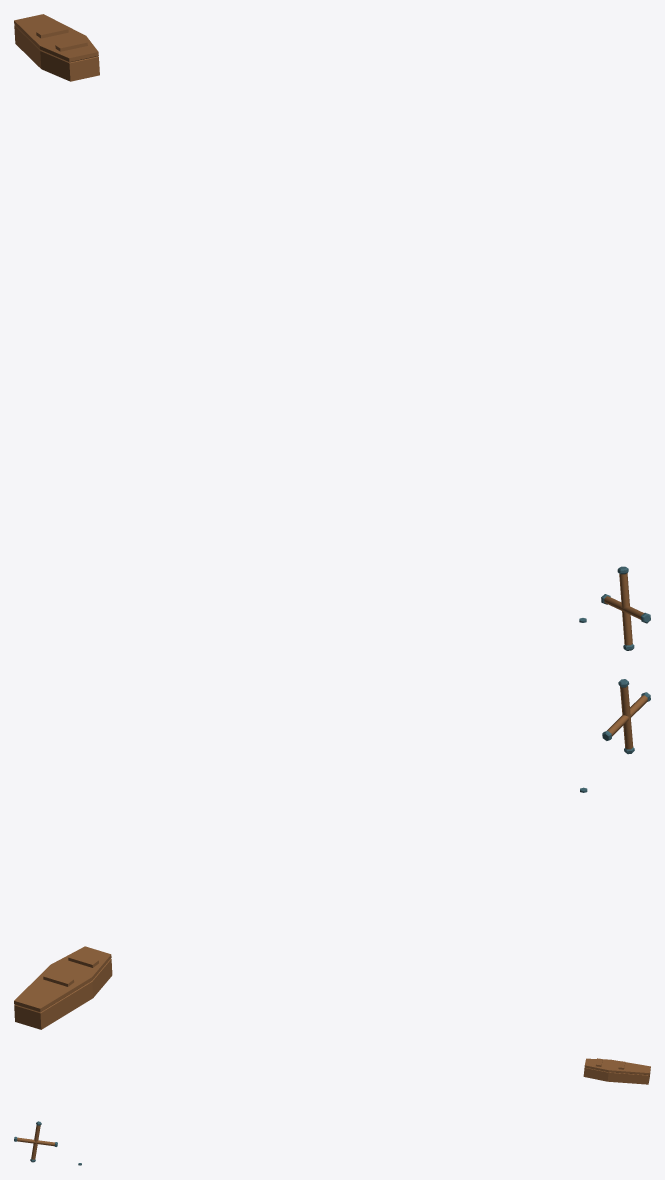
3 views of the same model, one above another, from view 1: azimuth 30°, elevation 25°; view 2: azimuth 150°, elevation 25°; view 3: azimuth 270°, elevation 25° (orthographic). The views are drawn at different scales.
Parts seen in each view (by area): view 1: Box804_brown_0; view 2: Box804_brown_0, Cylinder1231_brown_0; view 3: Box804_brown_0.
Boxes of the visible parts, x1=… form: Box804_brown_0: x1=14, y1=14, x2=99, y2=81; Box804_brown_0: x1=14, y1=946, x2=112, y2=1029; Cylinder1231_brown_0: x1=620, y1=686, x2=633, y2=749; Box804_brown_0: x1=583, y1=1058, x2=650, y2=1084.
Size of the model in its own units: 73.67 by 322 by 1802.
